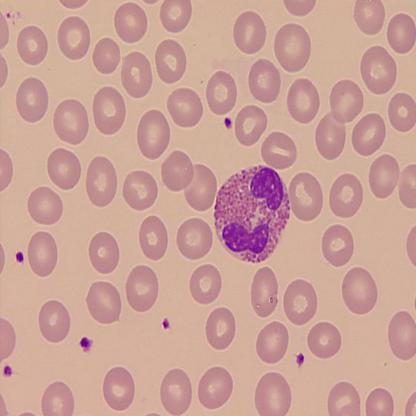Eosinophil: (212, 164, 290, 262)
